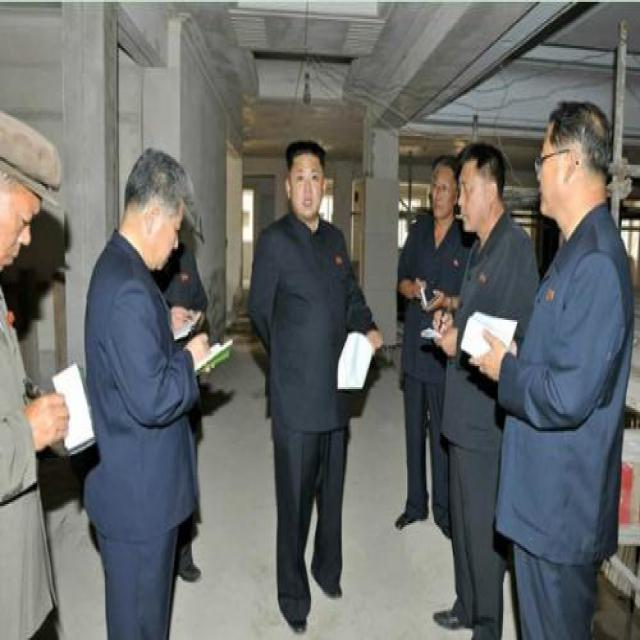head: (533, 93, 613, 235), (120, 141, 192, 275), (457, 137, 508, 239), (280, 130, 331, 222), (426, 152, 460, 227)
person: (72, 127, 224, 640), (239, 128, 381, 632), (507, 96, 636, 630), (443, 133, 532, 640), (395, 137, 456, 538)
